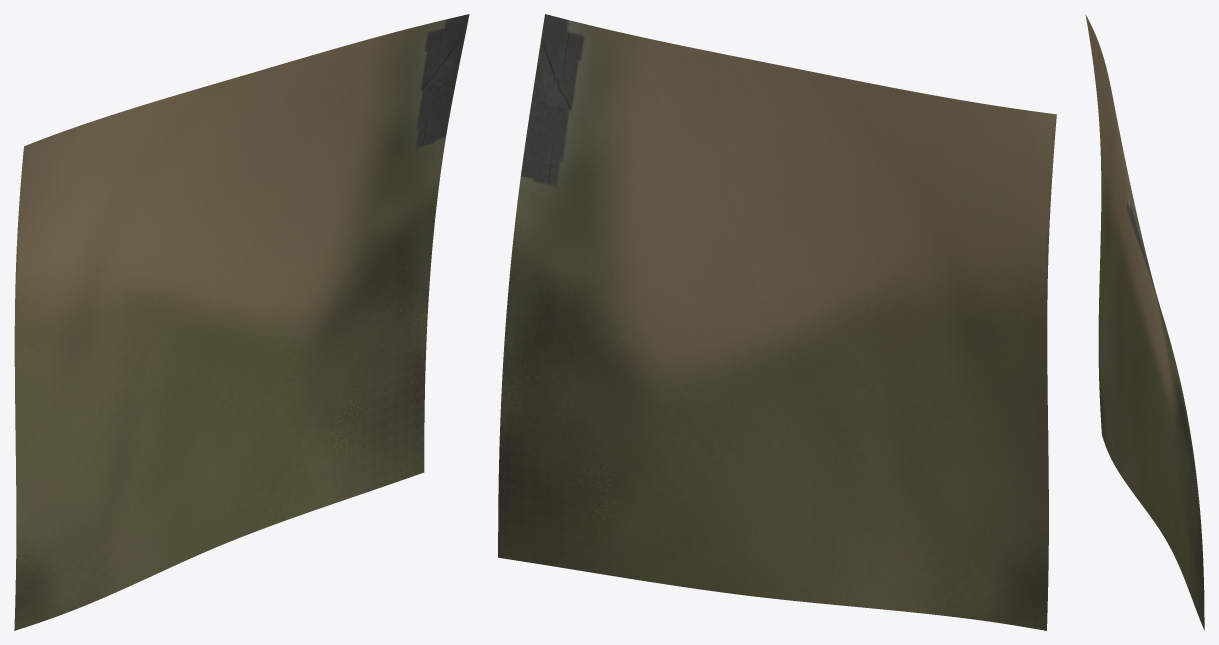
File: ground_core_00_03.obj
3 views of the same model, side by side, from view 1: azimuth 30°, elevation 25°; view 2: azimuth 150°, elevation 25°; view 3: azimuth 270°, elevation 25° (orthographic). The views are drawn at different scales.
Visible parts, largest first — view 1: ground_core_00_03; view 2: ground_core_00_03; view 3: ground_core_00_03.
Part boxes in pixels (bbox=[...]): ground_core_00_03: bbox=[14, 14, 469, 630]; ground_core_00_03: bbox=[498, 14, 1056, 630]; ground_core_00_03: bbox=[1085, 14, 1204, 630].
Size of the model in its own units: 50 by 50 by 12.82.
1 material, 1 textured.
